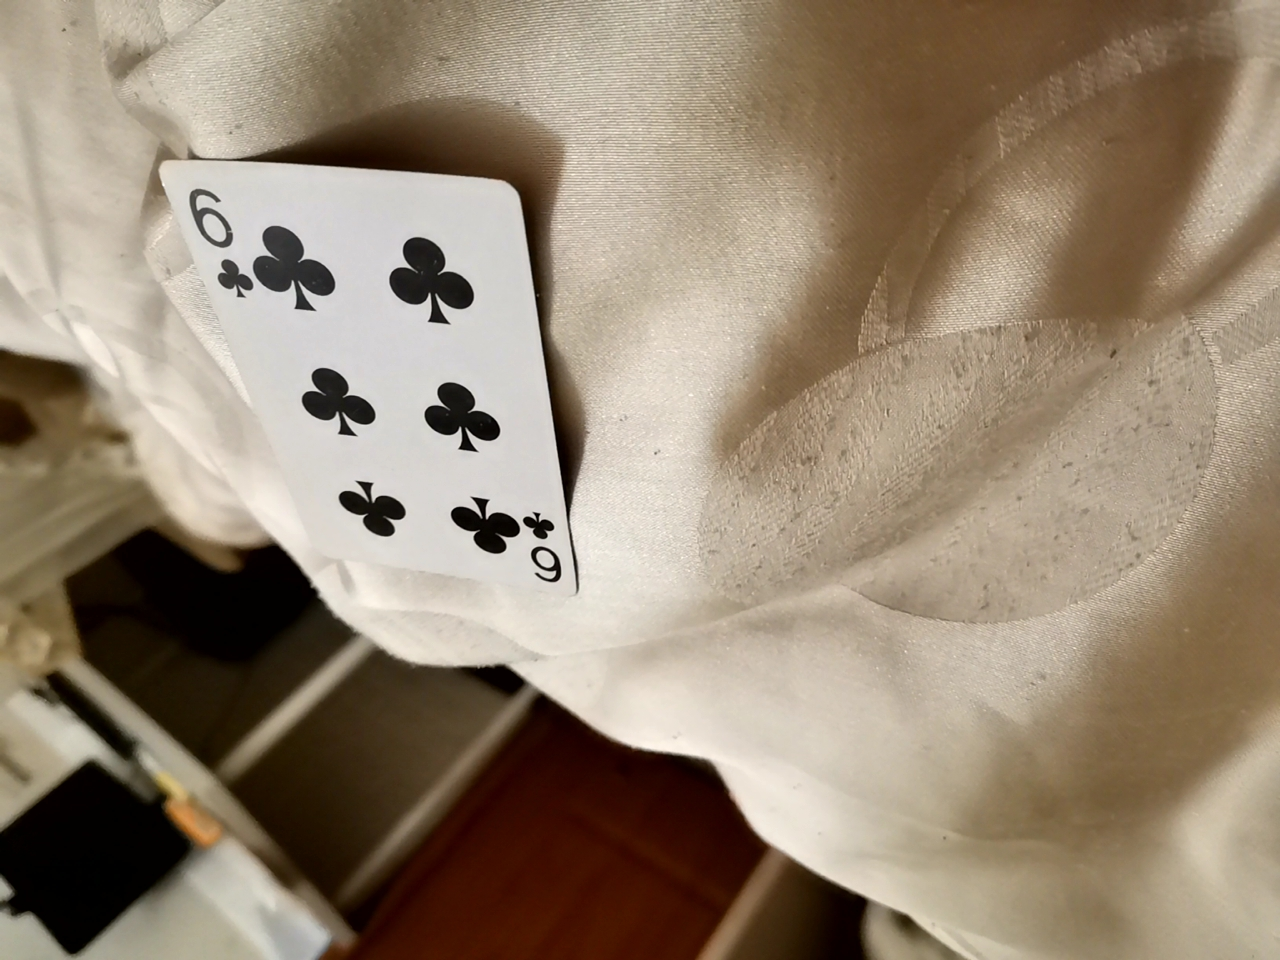mh 6: (186, 153, 549, 617)
